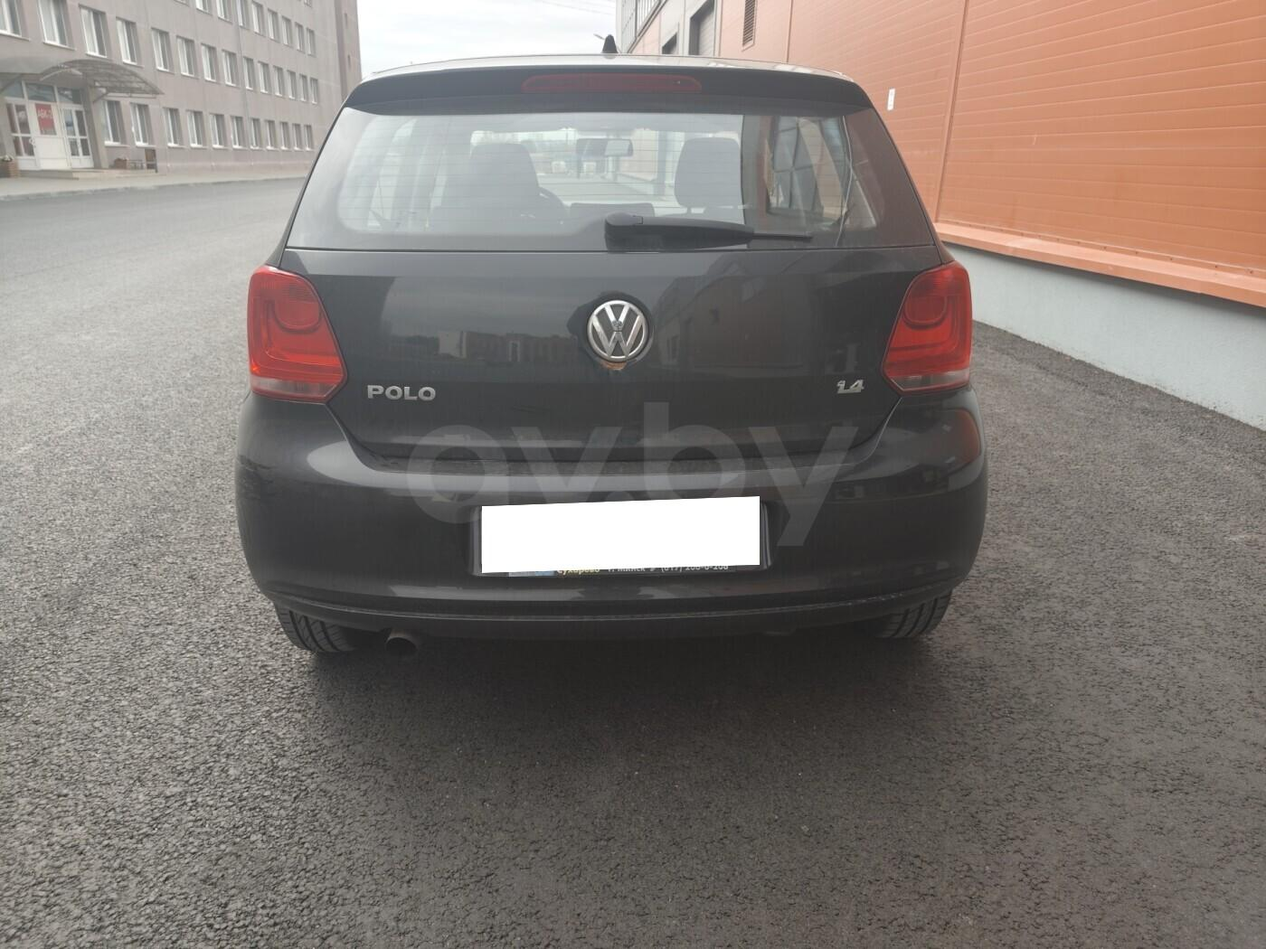Polo_2009-2015: (155, 25, 1028, 690)
